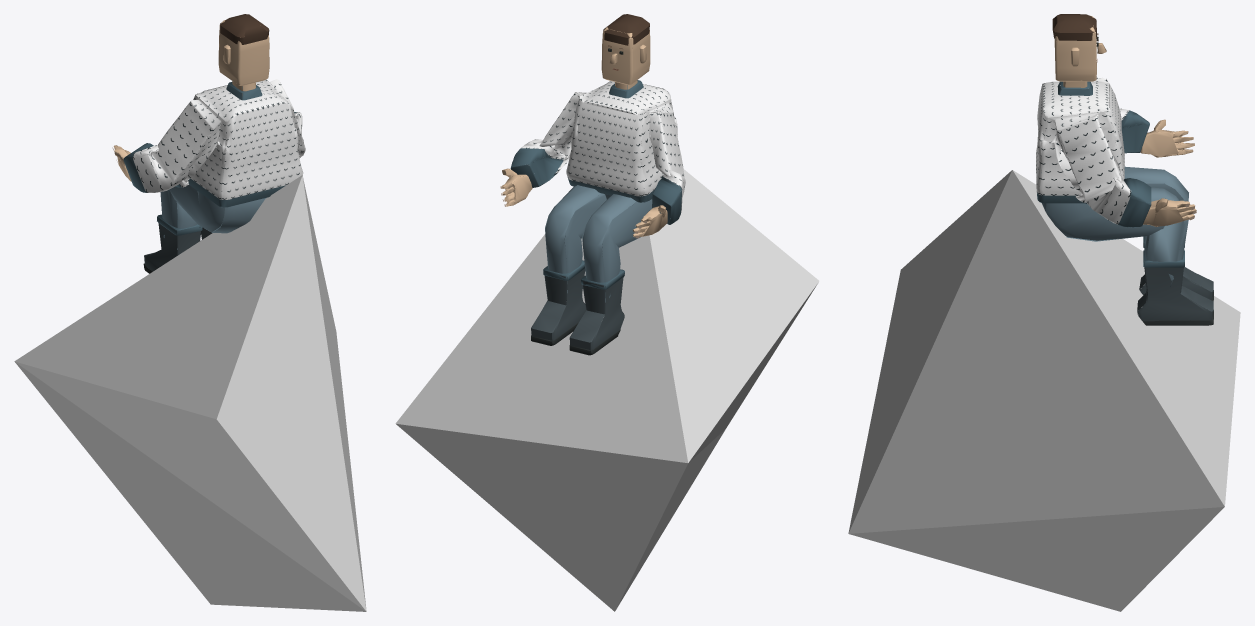
File: seated_passenger_near.glb
The picture shows the model from 3 angles, left to right: view 1: azimuth 30°, elevation 25°; view 2: azimuth 150°, elevation 25°; view 3: azimuth 270°, elevation 25°; orthographic projection. The views are drawn at different scales.
Parts seen in each view (by area): view 1: Icosphere_Seated.001, Top_Sweater_Seated.001, Trousers_Work_Seated.001, Head_Seated.001, Footwear_Boots_Seated.001, Hair_Crop_Seated.001; view 2: Icosphere_Seated.001, Top_Sweater_Seated.001, Trousers_Work_Seated.001, Footwear_Boots_Seated.001, Head_Seated.001, Hands_Seated.001, Hair_Crop_Seated.001; view 3: Icosphere_Seated.001, Top_Sweater_Seated.001, Trousers_Work_Seated.001, Footwear_Boots_Seated.001, Hands_Seated.001, Head_Seated.001, Hair_Crop_Seated.001.
Part boxes in pixels (x1=…): Icosphere_Seated.001: x1=14, y1=175, x2=366, y2=611; Top_Sweater_Seated.001: x1=123, y1=79, x2=305, y2=207; Trousers_Work_Seated.001: x1=160, y1=185, x2=266, y2=249; Head_Seated.001: x1=218, y1=20, x2=269, y2=85; Footwear_Boots_Seated.001: x1=143, y1=214, x2=212, y2=273; Hair_Crop_Seated.001: x1=220, y1=14, x2=269, y2=44; Icosphere_Seated.001: x1=395, y1=169, x2=819, y2=611; Top_Sweater_Seated.001: x1=510, y1=81, x2=685, y2=224; Trousers_Work_Seated.001: x1=545, y1=185, x2=652, y2=302; Footwear_Boots_Seated.001: x1=531, y1=258, x2=624, y2=355; Head_Seated.001: x1=601, y1=27, x2=650, y2=84; Hands_Seated.001: x1=500, y1=168, x2=667, y2=238; Hair_Crop_Seated.001: x1=603, y1=14, x2=649, y2=45; Icosphere_Seated.001: x1=848, y1=170, x2=1240, y2=611; Top_Sweater_Seated.001: x1=1036, y1=76, x2=1151, y2=227; Trousers_Work_Seated.001: x1=1042, y1=166, x2=1188, y2=287; Footwear_Boots_Seated.001: x1=1137, y1=236, x2=1213, y2=325; Hands_Seated.001: x1=1140, y1=119, x2=1196, y2=226; Head_Seated.001: x1=1054, y1=15, x2=1096, y2=81; Hair_Crop_Seated.001: x1=1052, y1=14, x2=1097, y2=40.
Bounding box in the file's own units: 1.56 × 2.84 × 1.69.
Materials: 11 (1 with a texture image).
